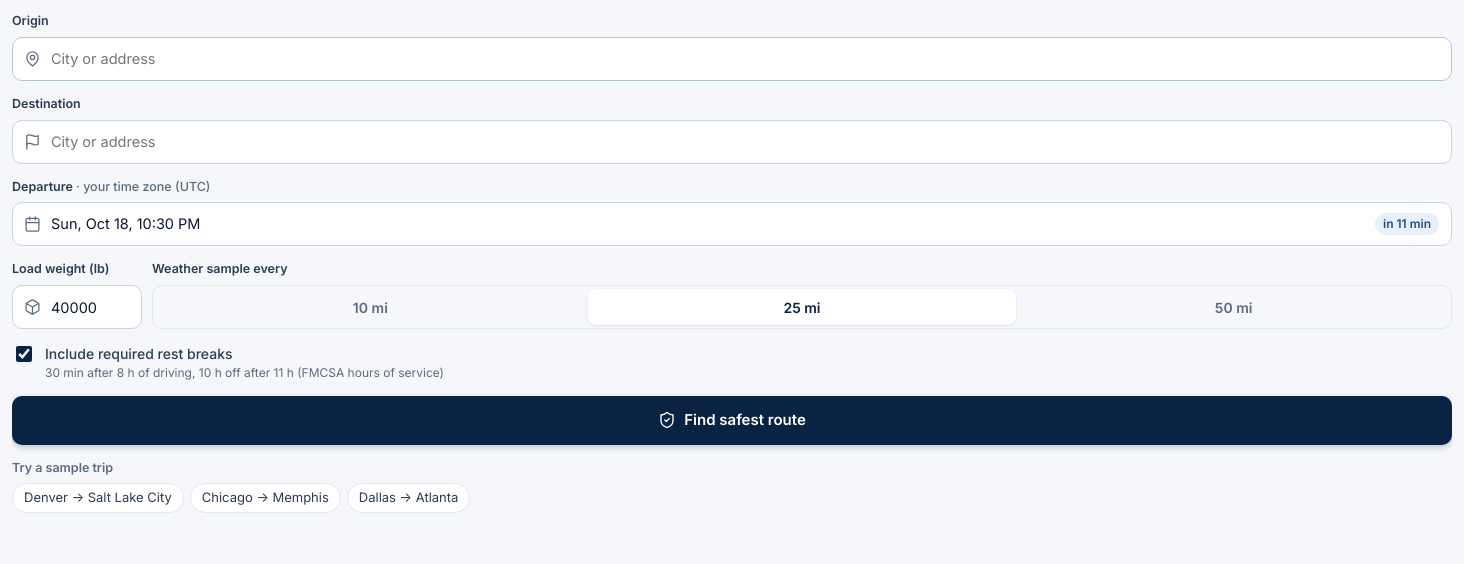
TripForm › needs both places
Type "Chicago" into the dropdown labelled "Origin" at (732, 59), box [12,37,1452,81]
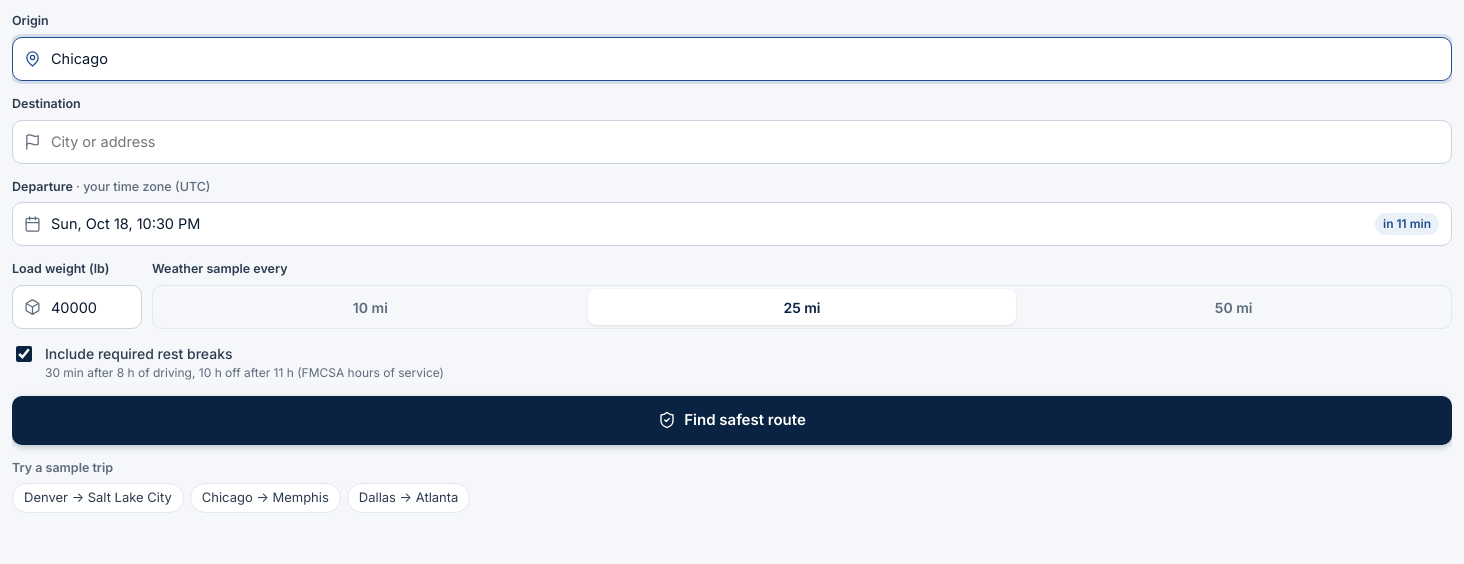
Click the button "Find safest route" at (732, 420), box [12,396,1452,444]
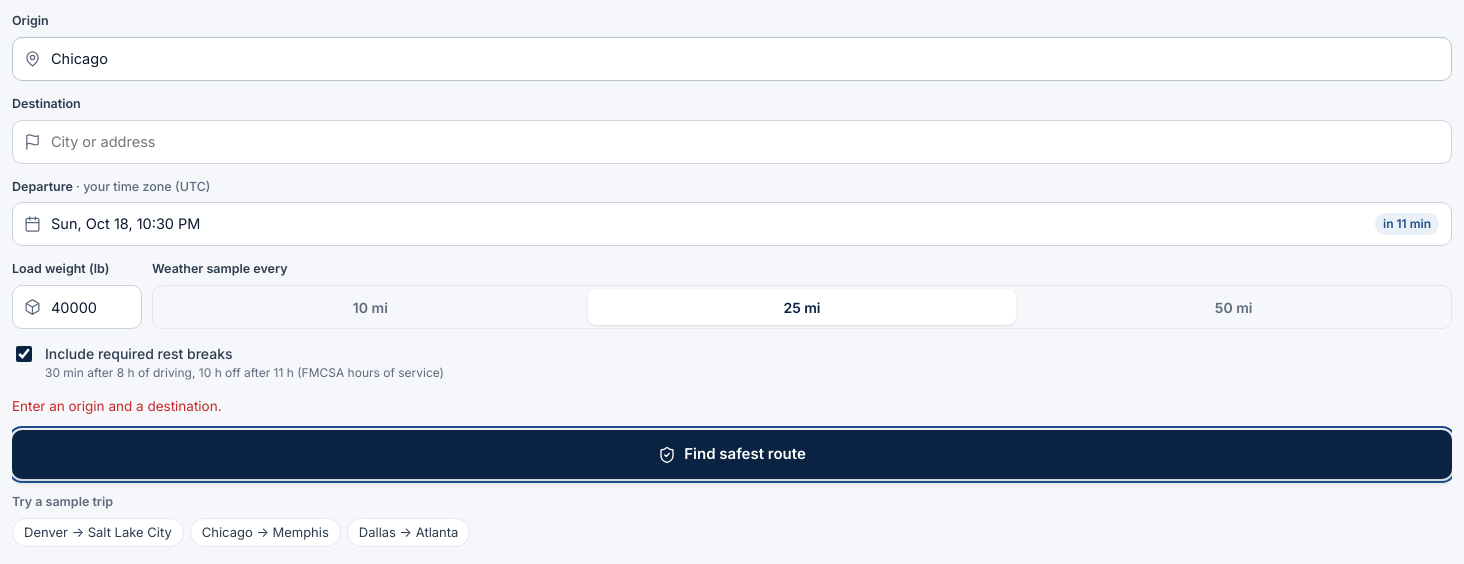
Now the text "Enter an origin and a destination." is shown, box [12,398,222,414]
